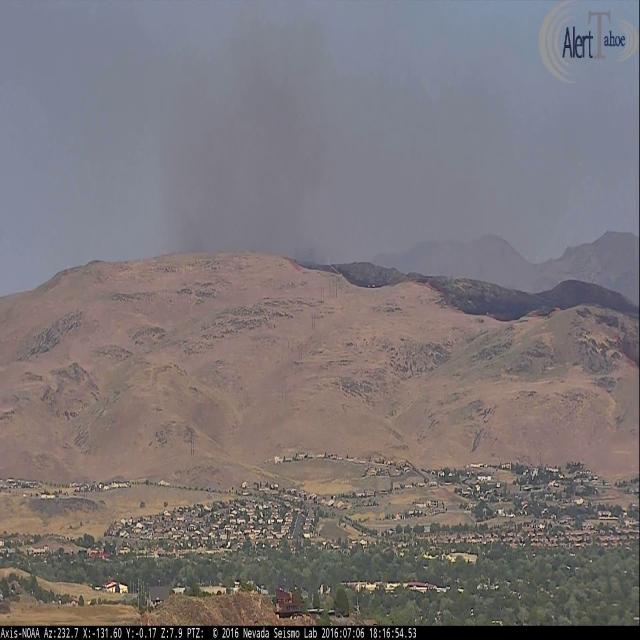smoke: (139, 0, 344, 254)
